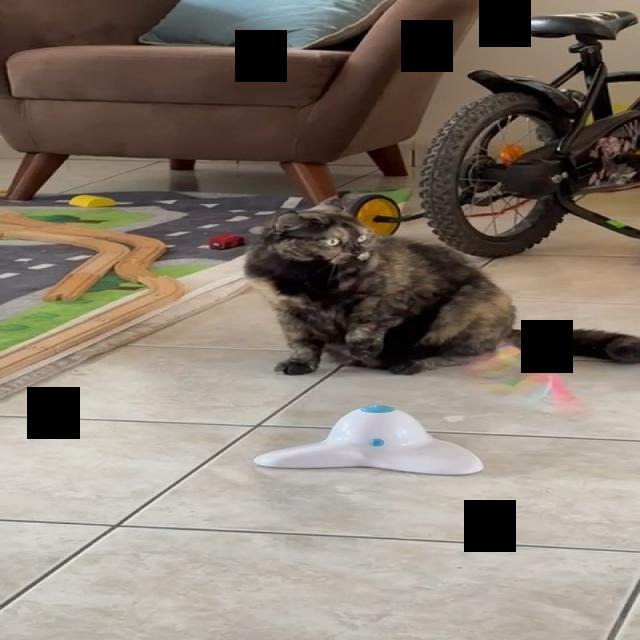authorized: (241, 195, 639, 376)
